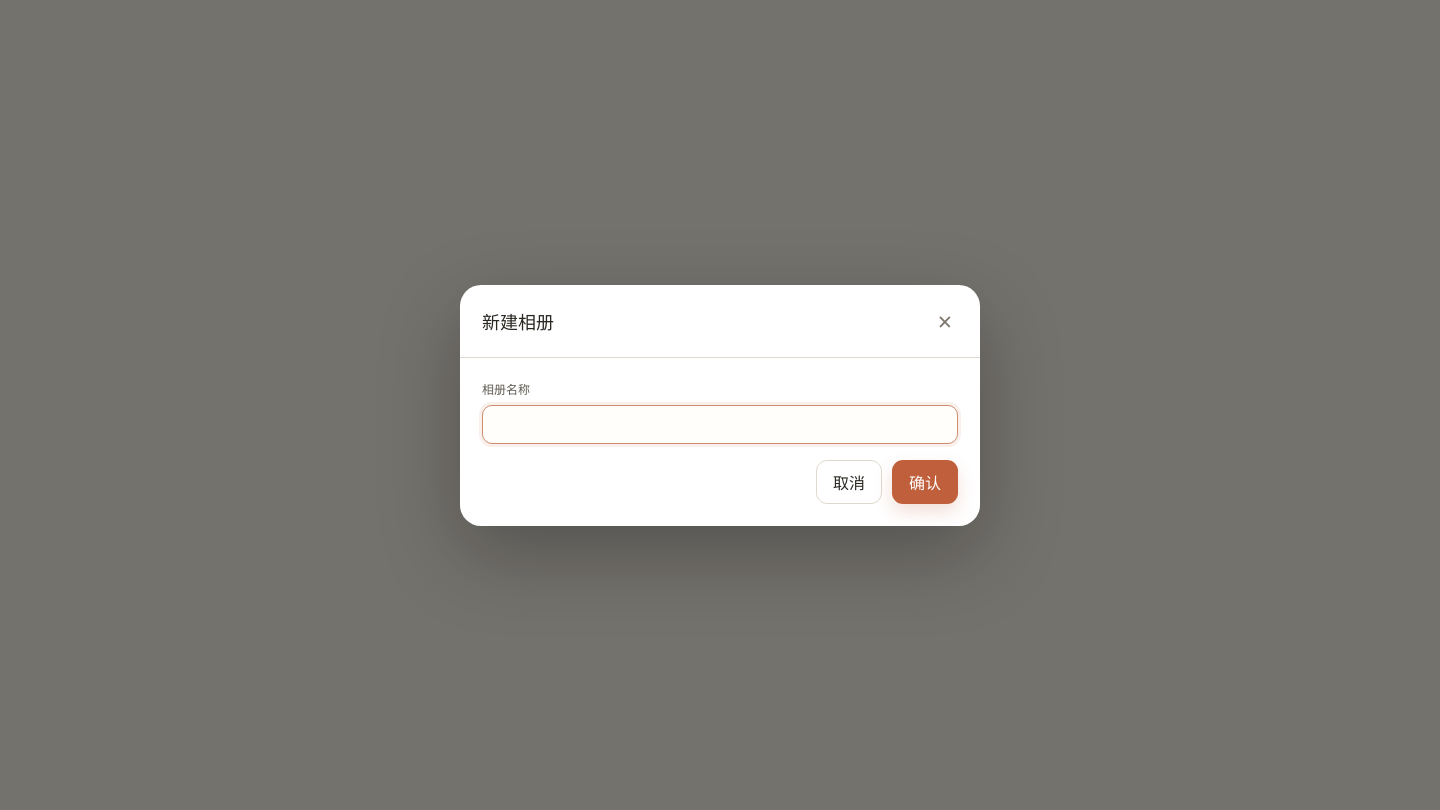
Test: TextInputDialog › shows the create error inside the dialog
Type "重复名称" into the field labelled "相册名称".
click(720, 424); type("重复名称")  # box [482,404,958,444]
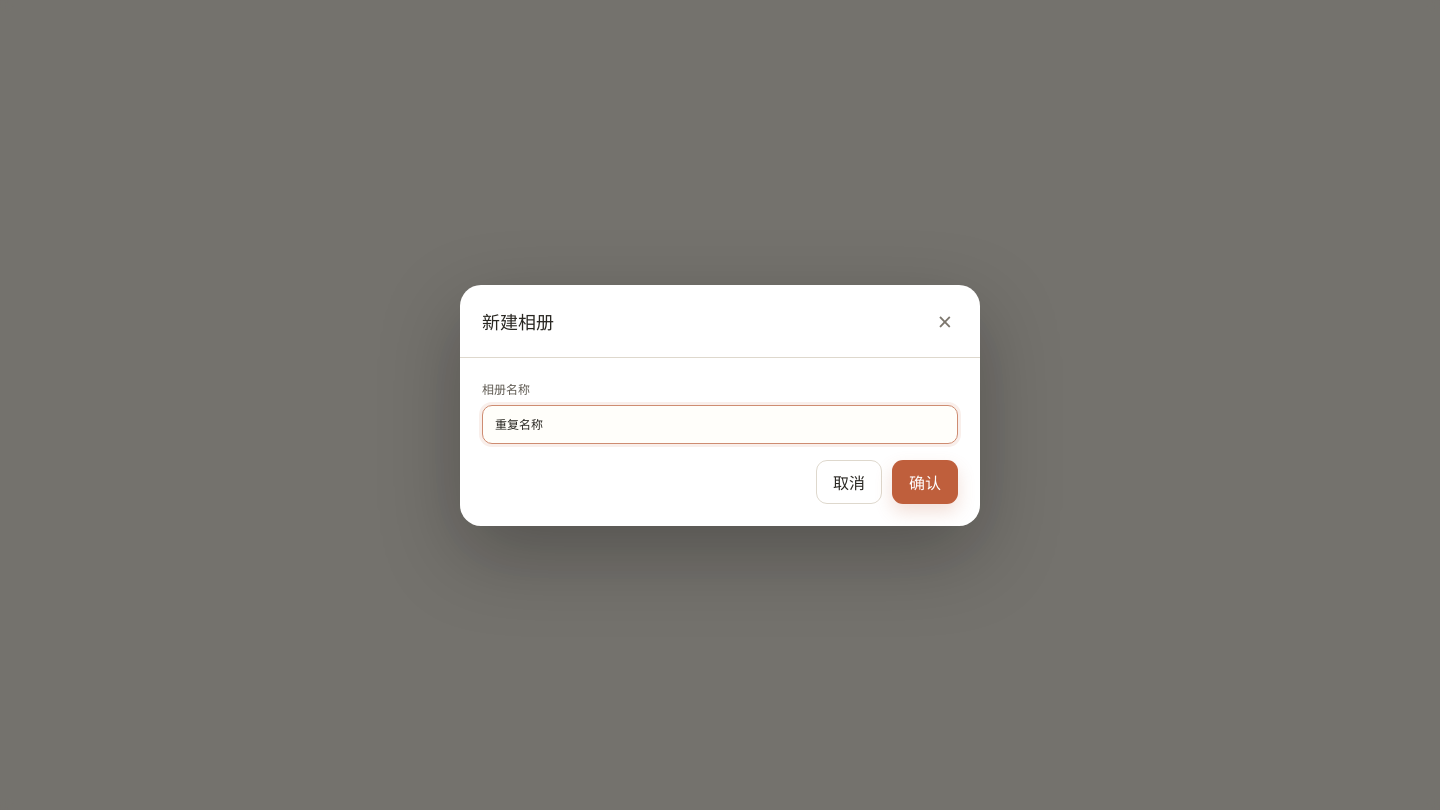
Click the button "确认".
click(925, 482)  # box [892,460,958,504]
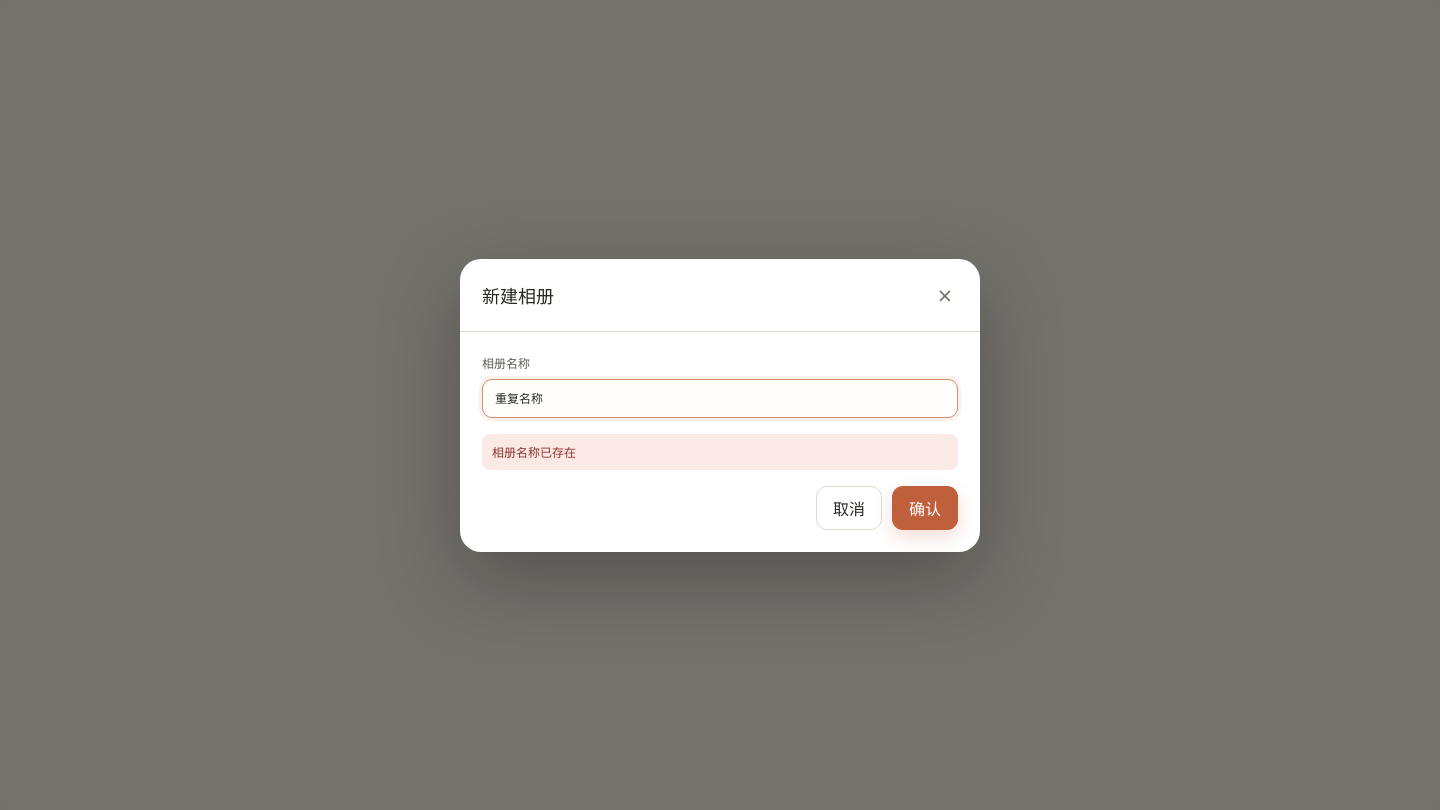
Expected: the message reads "相册名称已存在", [492,444,576,460]
